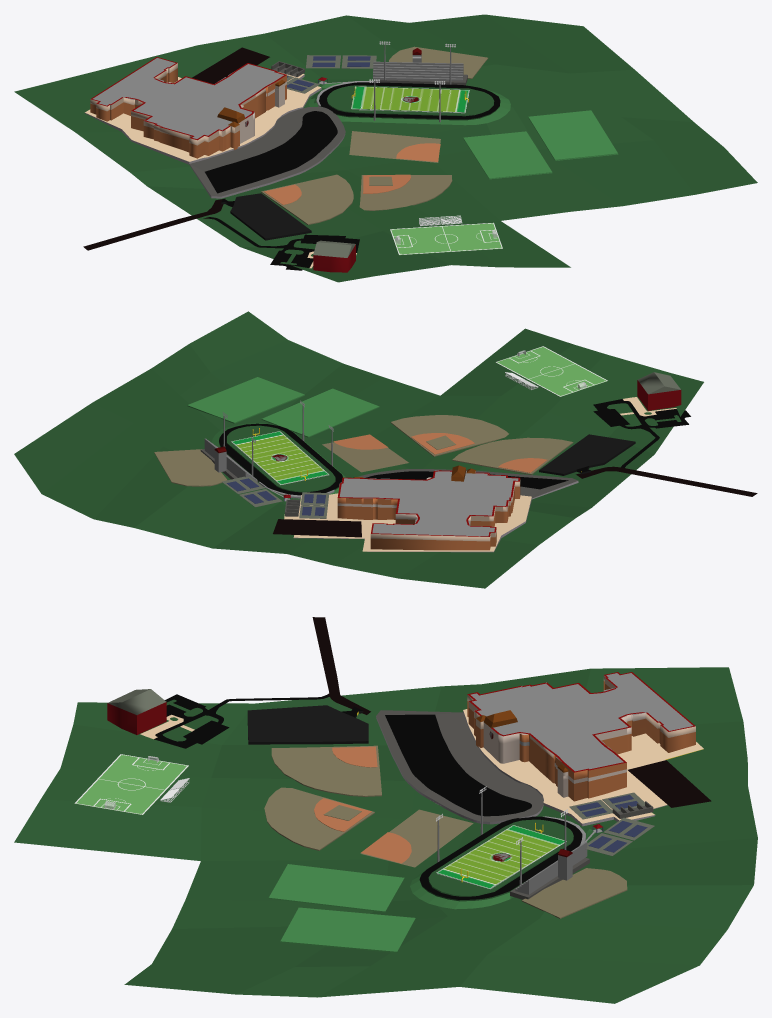
File: isobroadneck.glb
3 renders of one model, top to bottom at view 1: azimuth 30°, elevation 25°; view 2: azimuth 150°, elevation 25°; view 3: azimuth 270°, elevation 25°, orthographic. The views are drawn at different scales.
Visible parts, largest first — view 1: bhs_grass, bhs_bases_fields, Plane, bhs_extrafield, bhs_turf, bhs_practice_field, Bleachers.006, bhs_library, Untitled design (62); view 2: bhs_grass, bhs_bases_fields, Plane, bhs_extrafield, bhs_practice_field, bhs_turf, bhs_library, Bleachers.006, Untitled design (62); view 3: bhs_grass, bhs_bases_fields, Plane, bhs_extrafield, bhs_practice_field, bhs_turf, bhs_library, Bleachers.006, Untitled design (62).
Part boxes in pixels (left/top/right/bottom): bhs_grass: left=14, top=14, right=757, bottom=282; bhs_bases_fields: left=83, top=46, right=488, bottom=250; Plane: left=90, top=57, right=286, bottom=158; bhs_extrafield: left=261, top=131, right=452, bottom=224; bhs_turf: left=309, top=41, right=510, bottom=125; bhs_practice_field: left=463, top=110, right=618, bottom=179; Bleachers.006: left=390, top=215, right=502, bottom=255; bhs_library: left=203, top=217, right=359, bottom=272; Untitled design (62): left=351, top=86, right=469, bottom=112; bhs_grass: left=14, top=311, right=703, bottom=588; bhs_bases_fields: left=154, top=434, right=757, bottom=552; Plane: left=337, top=465, right=520, bottom=550; bhs_extrafield: left=322, top=415, right=573, bottom=474; bhs_practice_field: left=187, top=377, right=379, bottom=437; bhs_turf: left=200, top=400, right=345, bottom=504; bhs_library: left=593, top=372, right=690, bottom=467; Bleachers.006: left=495, top=346, right=607, bottom=396; Untitled design (62): left=231, top=431, right=328, bottom=484; bhs_grass: left=14, top=667, right=757, bottom=1003; bhs_bases_fields: left=247, top=617, right=711, bottom=918; Plane: left=467, top=672, right=695, bottom=801; bhs_extrafield: left=264, top=745, right=473, bottom=867; bhs_practice_field: left=268, top=864, right=415, bottom=952; bhs_turf: left=410, top=786, right=607, bottom=909; bhs_library: left=107, top=689, right=329, bottom=748; Bleachers.006: left=74, top=754, right=189, bottom=815; Untitled design (62): left=436, top=825, right=566, bottom=888.
Bounding box in the file's own units: 1.13 × 0.1087 × 0.9744.
Materials: 36 (2 with a texture image).
